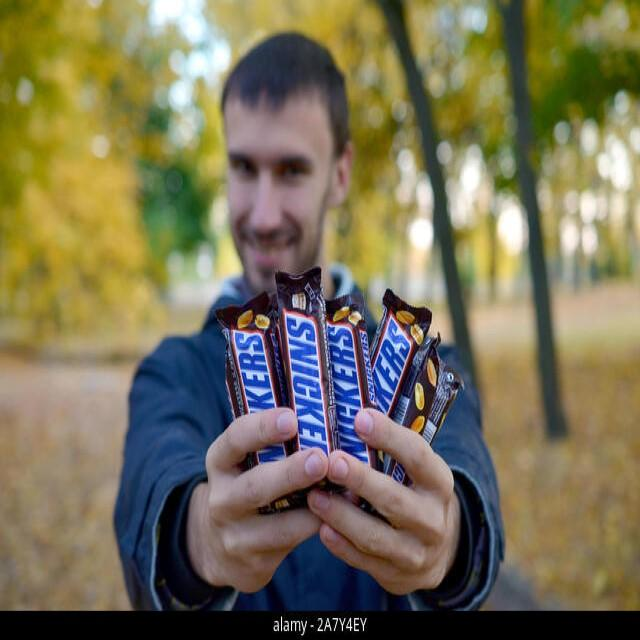snickers_chocolate: (279, 282, 325, 459), (373, 309, 435, 418), (227, 309, 280, 426), (343, 313, 366, 469)
